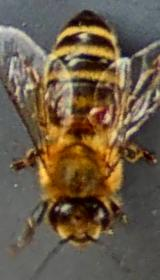varroa_mite: (85, 100, 116, 128)
